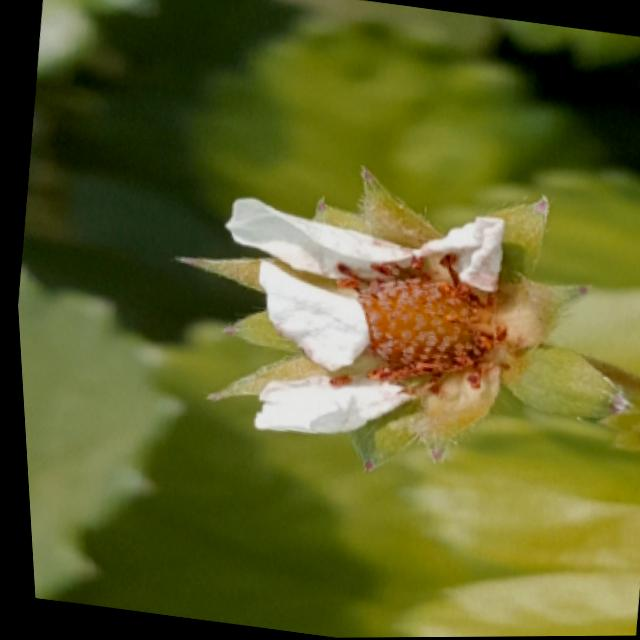Blossom Blight: (321, 246, 505, 402)
